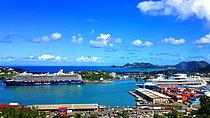Ship: (4, 70, 89, 88)
